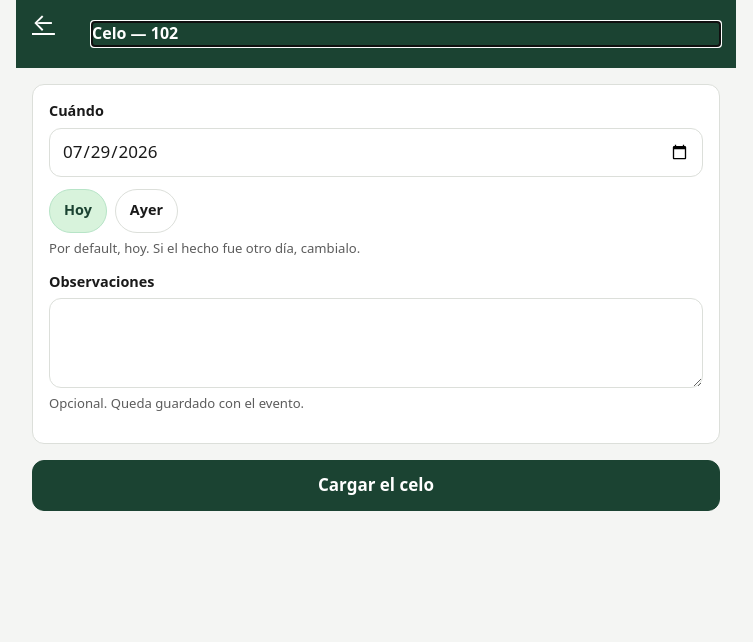
Test: el flujo del rechazo › muestra el mensaje del núcleo tal cual, con su código
Expected: the heading "Celo — 102" is shown, [92,22,178,44]
Step 1. Click the button "Cargar el celo" → (376, 486), box [32,460,720,511]
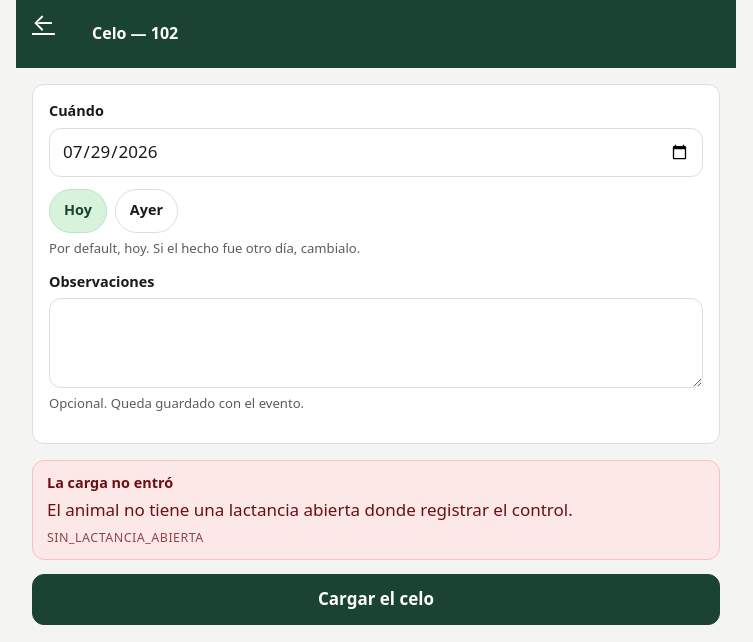
Expected: the text "El animal no tiene una lactancia abierta donde registrar el control." is shown, [47,498,573,521]
Expected: the text "SIN_LACTANCIA_ABIERTA" is shown, [47,529,204,546]
